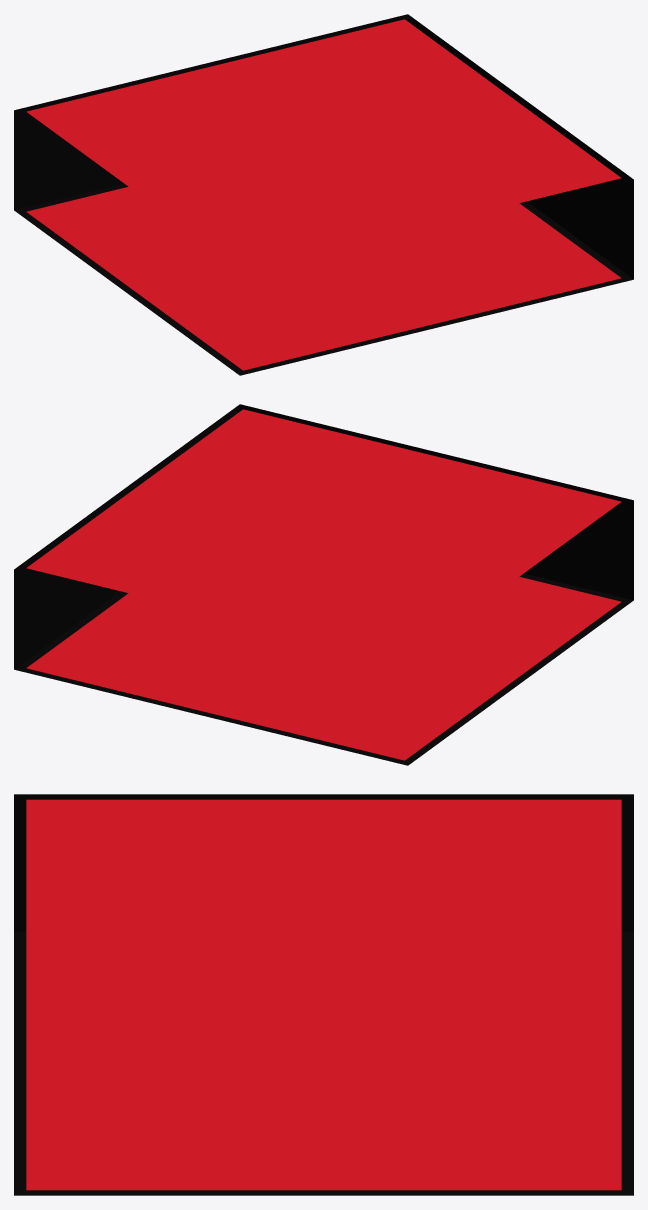
The model's file is RED CUBE.glb.
The picture shows the model from 3 angles, top to bottom: view 1: azimuth 30°, elevation 25°; view 2: azimuth 150°, elevation 25°; view 3: azimuth 270°, elevation 25°; orthographic projection. The views are drawn at different scales.
Visible parts, largest first — view 1: Plane.002; view 2: Plane.002; view 3: Plane.002.
Boxes of the visible parts, bbox=[...] form: Plane.002: bbox=[14, 14, 633, 375]; Plane.002: bbox=[14, 404, 633, 765]; Plane.002: bbox=[14, 794, 633, 1195].
Size of the model in its own units: 2 by 0.4854 by 1.99.
